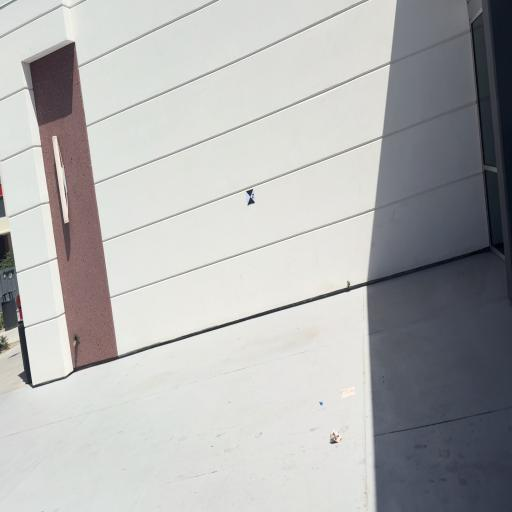target7: (246, 188, 256, 206)
